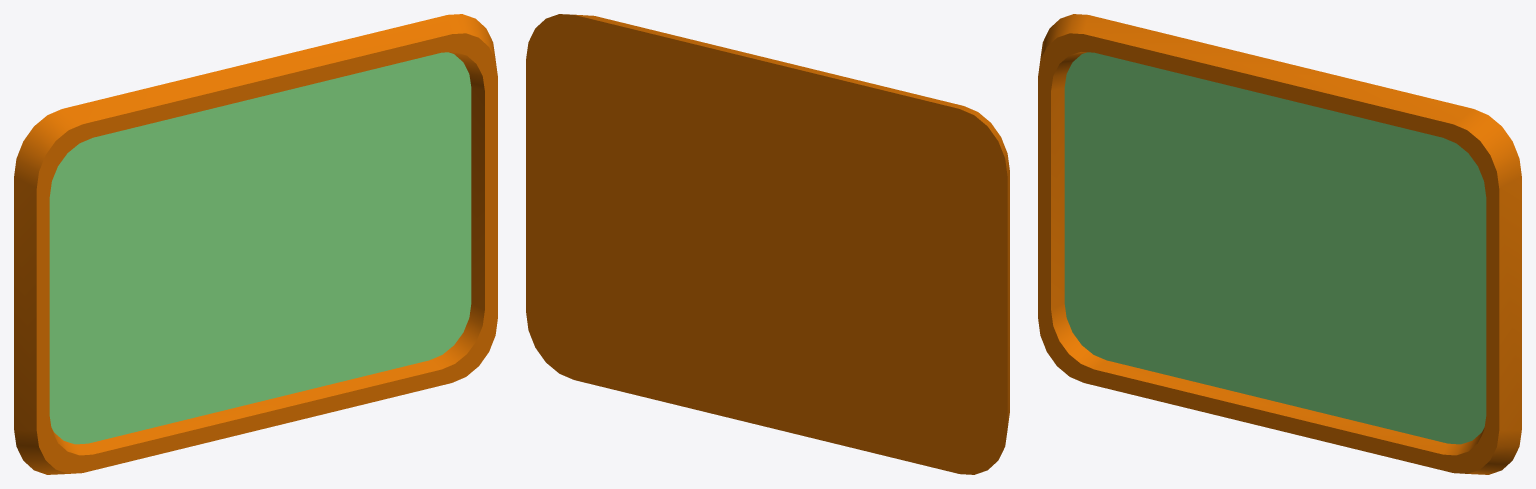
File: MagneticDrawingBoard.dae
The picture shows the model from 3 angles, left to right: view 1: azimuth 30°, elevation 25°; view 2: azimuth 150°, elevation 25°; view 3: azimuth 330°, elevation 25°; orthographic projection.
Visible parts, largest first — view 1: Plane.001; view 2: Plane.001; view 3: Plane.001.
Part boxes in pixels (box(x1,y1,x2,y2)): Plane.001: box(14, 14, 497, 474); Plane.001: box(526, 14, 1009, 474); Plane.001: box(1038, 14, 1521, 474).
Bounding box in the file's own units: 1.15 × 0.0516 × 0.8324.
